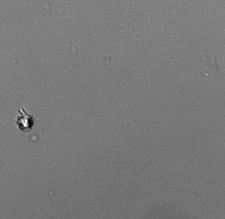Living Cell: (15, 113, 34, 130)
